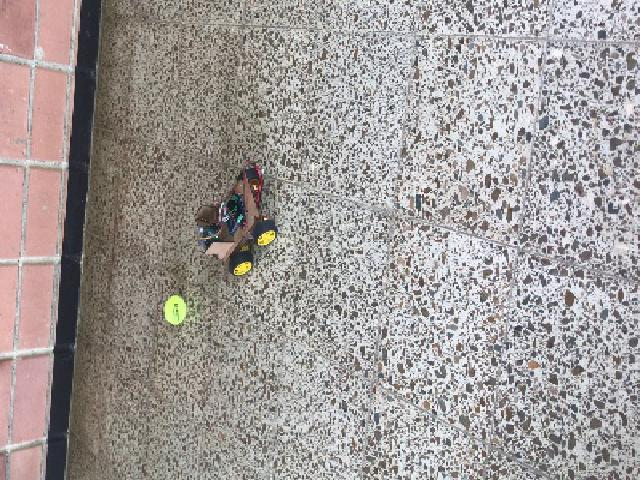Ball: (163, 296, 186, 324)
Robot: (195, 168, 277, 275)
